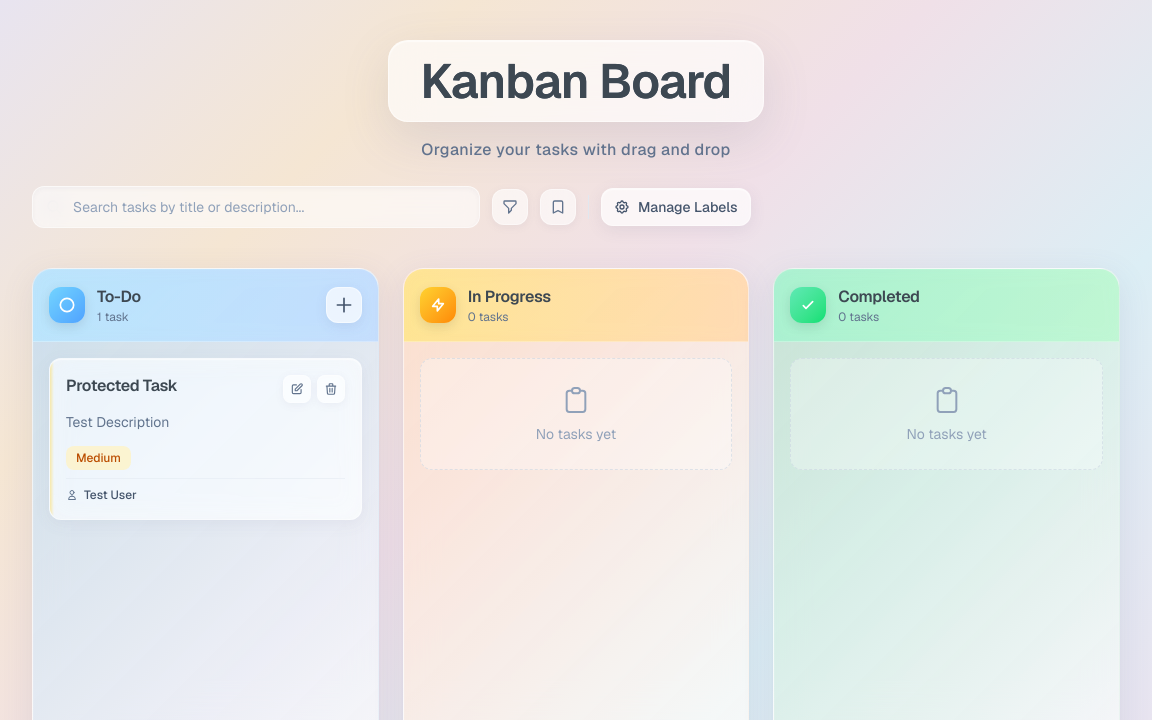
Kanban Board Integration Tests › Delete Task Workflow › should rollback deletion on server error
This screenshot has width=1152, height=720.
Click the button named "delete task: protected task" at point(331, 389), box top-left (317, 375), bottom-right (345, 403)
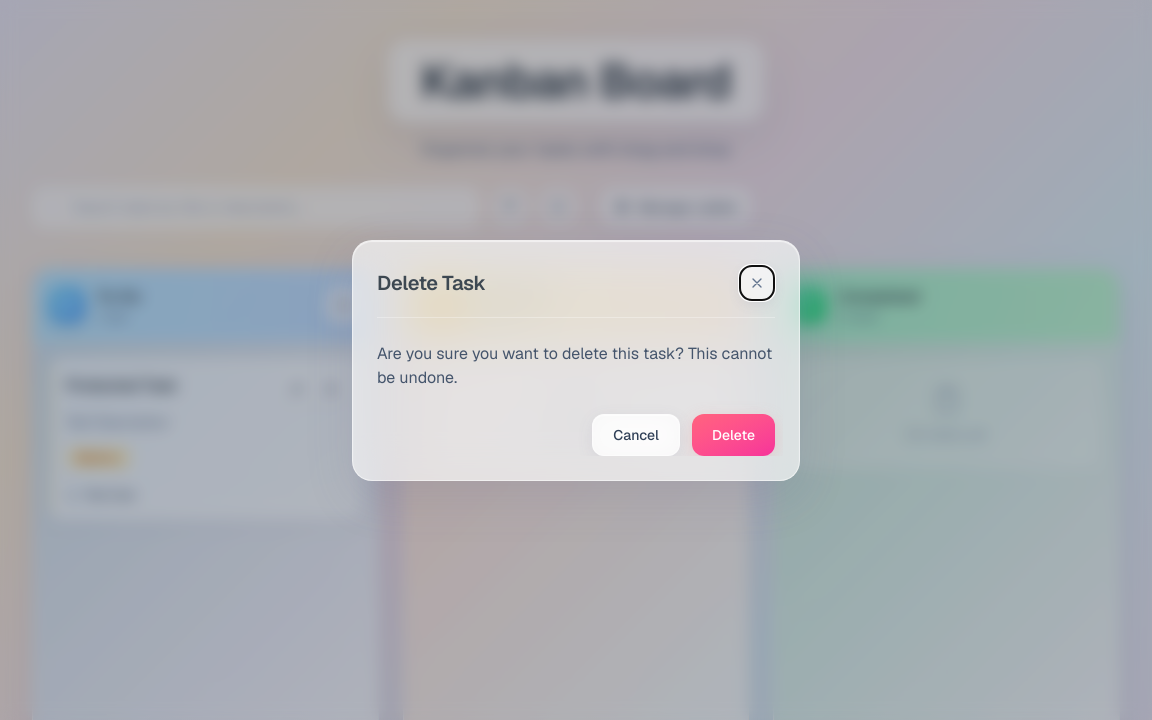
Check: the text "Are you sure" is shown, box top-left (377, 342), bottom-right (772, 388)
Click the button with aria-label "confirm deletion" at point(733, 434), box top-left (692, 414), bottom-right (775, 456)
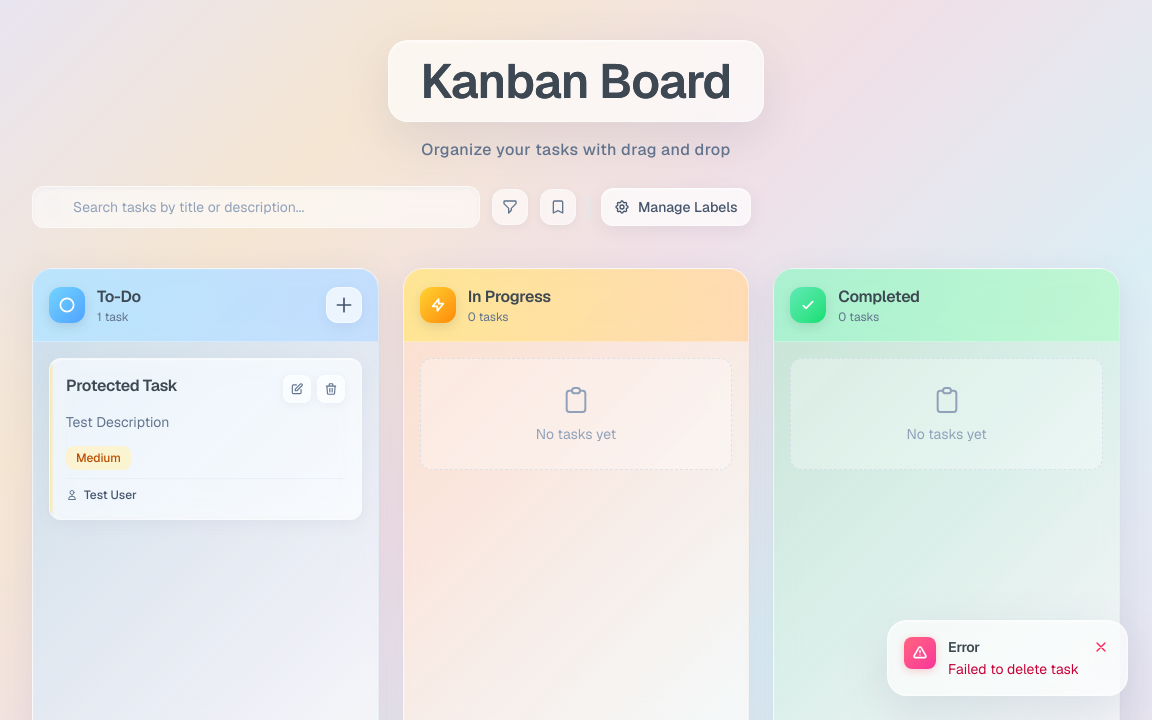
Check: the heading "Protected Task" is shown, box top-left (66, 375), bottom-right (178, 397)
Check: the message "Error Failed to delete task" is shown, box top-left (887, 620), bottom-right (1128, 696)
